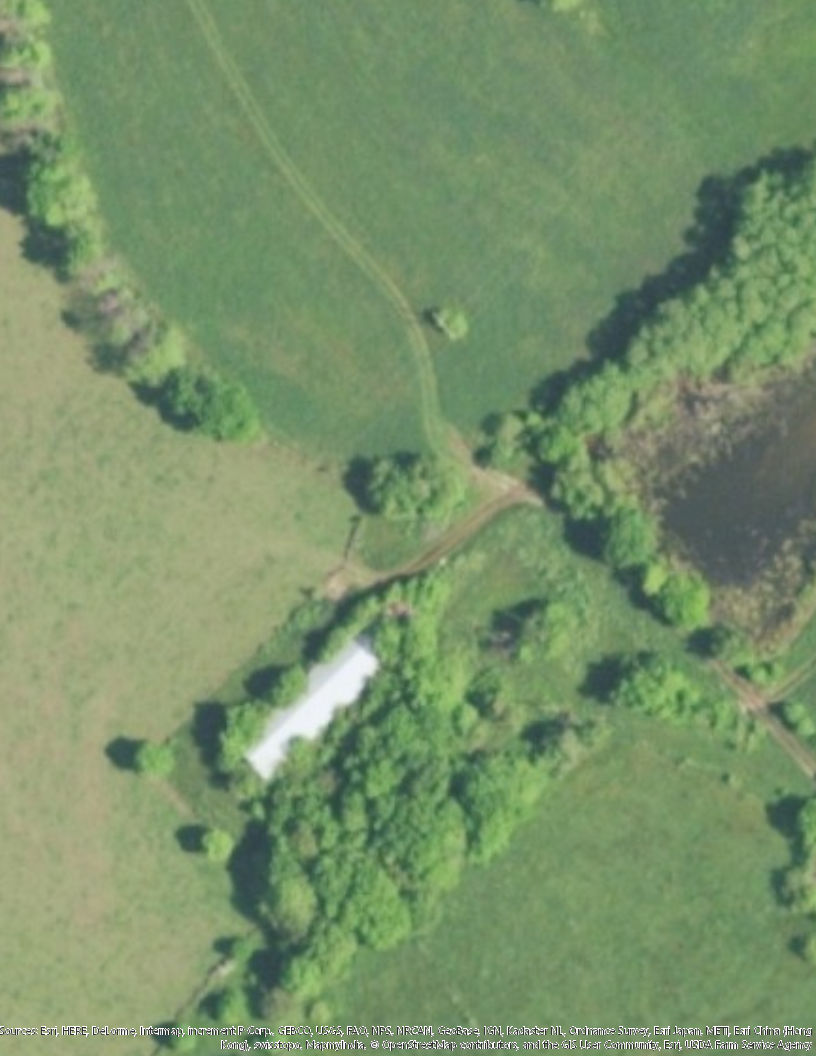cafo: (214, 623, 392, 783)
